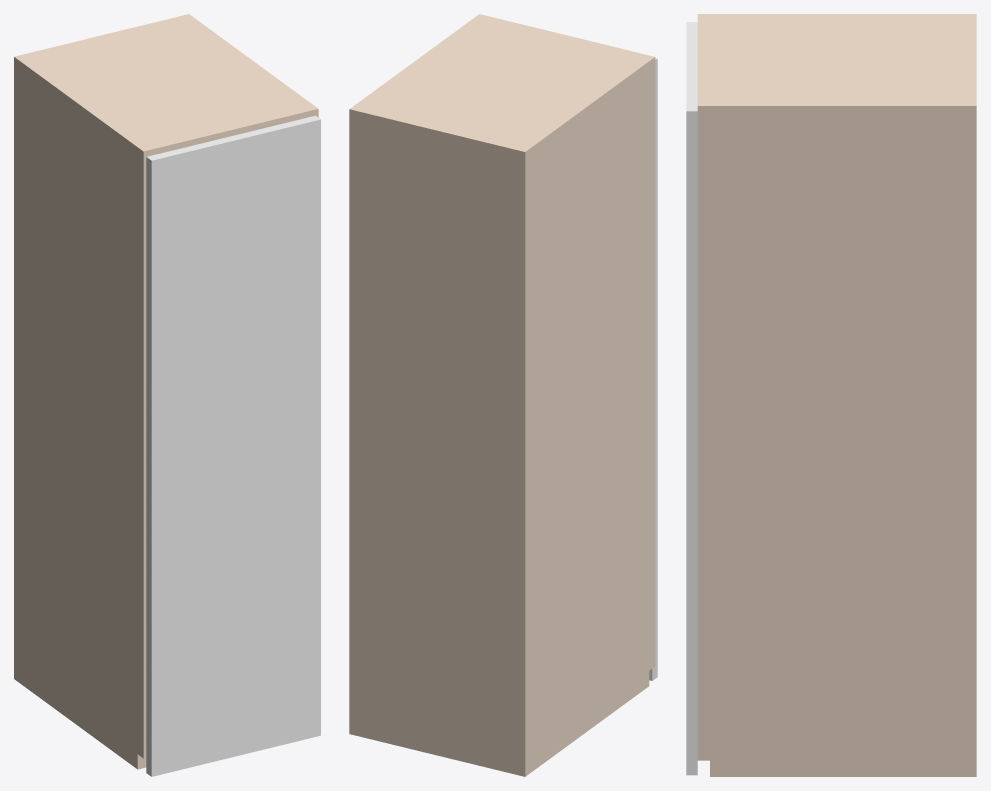
Rendered from KTCH_ELIX_Cabinet_30_40_100.FBX.
The picture shows the model from 3 angles, left to right: view 1: azimuth 30°, elevation 25°; view 2: azimuth 150°, elevation 25°; view 3: azimuth 270°, elevation 25°; orthographic projection. The views are drawn at different scales.
Parts seen in each view (by area): view 1: KTCH_ELIX_Cabinet_30_40_100; view 2: KTCH_ELIX_Cabinet_30_40_100; view 3: KTCH_ELIX_Cabinet_30_40_100.
Boxes of the visible parts, x1,y1,x2,y2 form: KTCH_ELIX_Cabinet_30_40_100: [14, 14, 320, 776]; KTCH_ELIX_Cabinet_30_40_100: [349, 14, 657, 776]; KTCH_ELIX_Cabinet_30_40_100: [686, 14, 976, 776].
Size of the model in its own units: 30 by 40 by 102.
